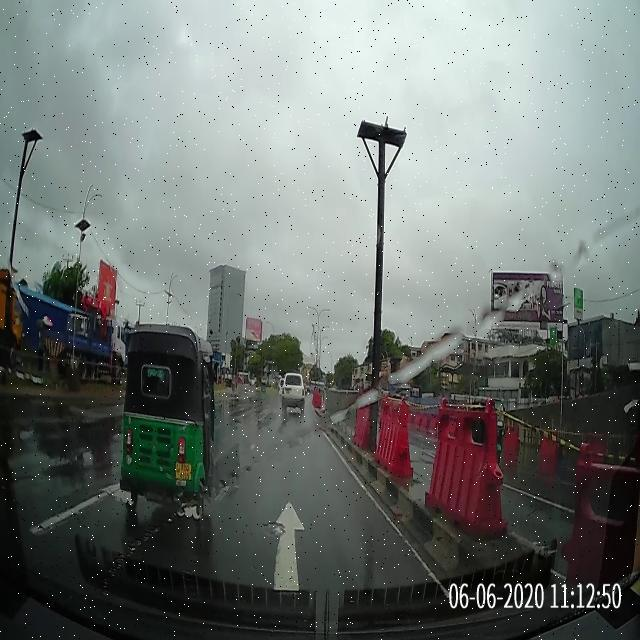forward: (159, 487, 458, 597)
